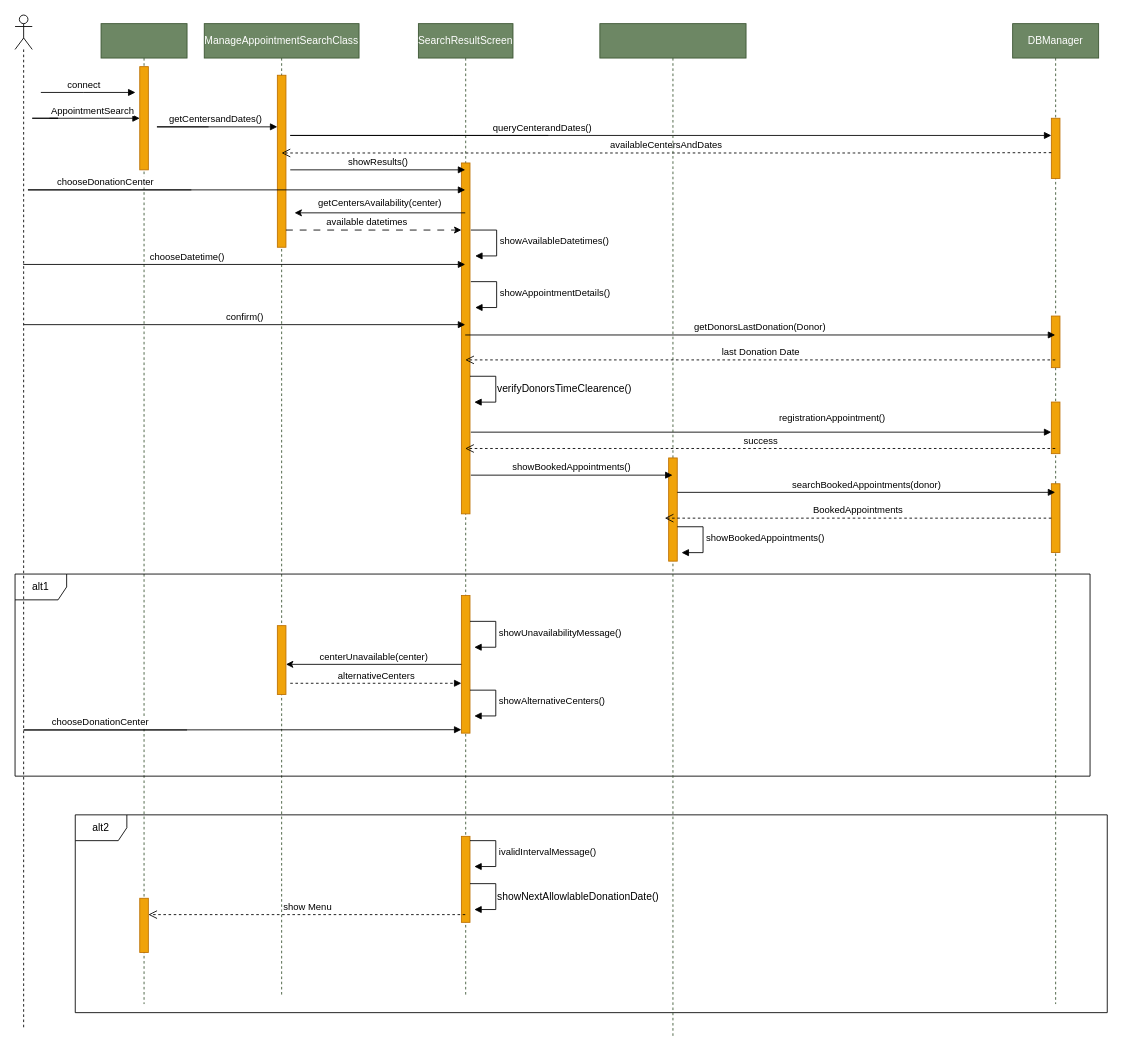
Image size: 1122x1054. Some labels were removed from this diagram. The shapes that lost their labels are listed below. From the top down, each one's box as (x1, y1, x2, y2) in pixels, then its label:
(100, 23, 187, 1004): MenuScreen
(599, 23, 746, 1038): BookedAppoinmtentsScreen
